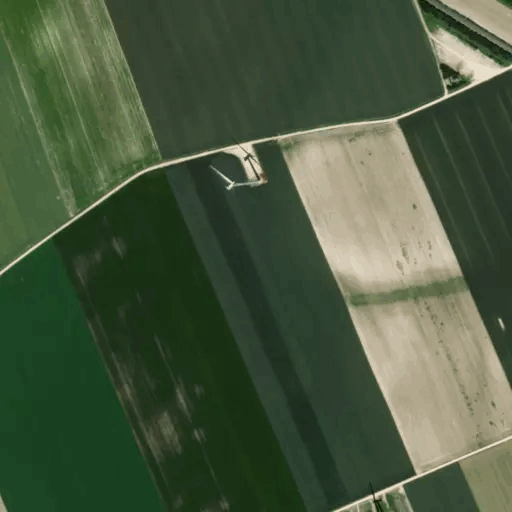wt: (202, 133, 277, 198)
